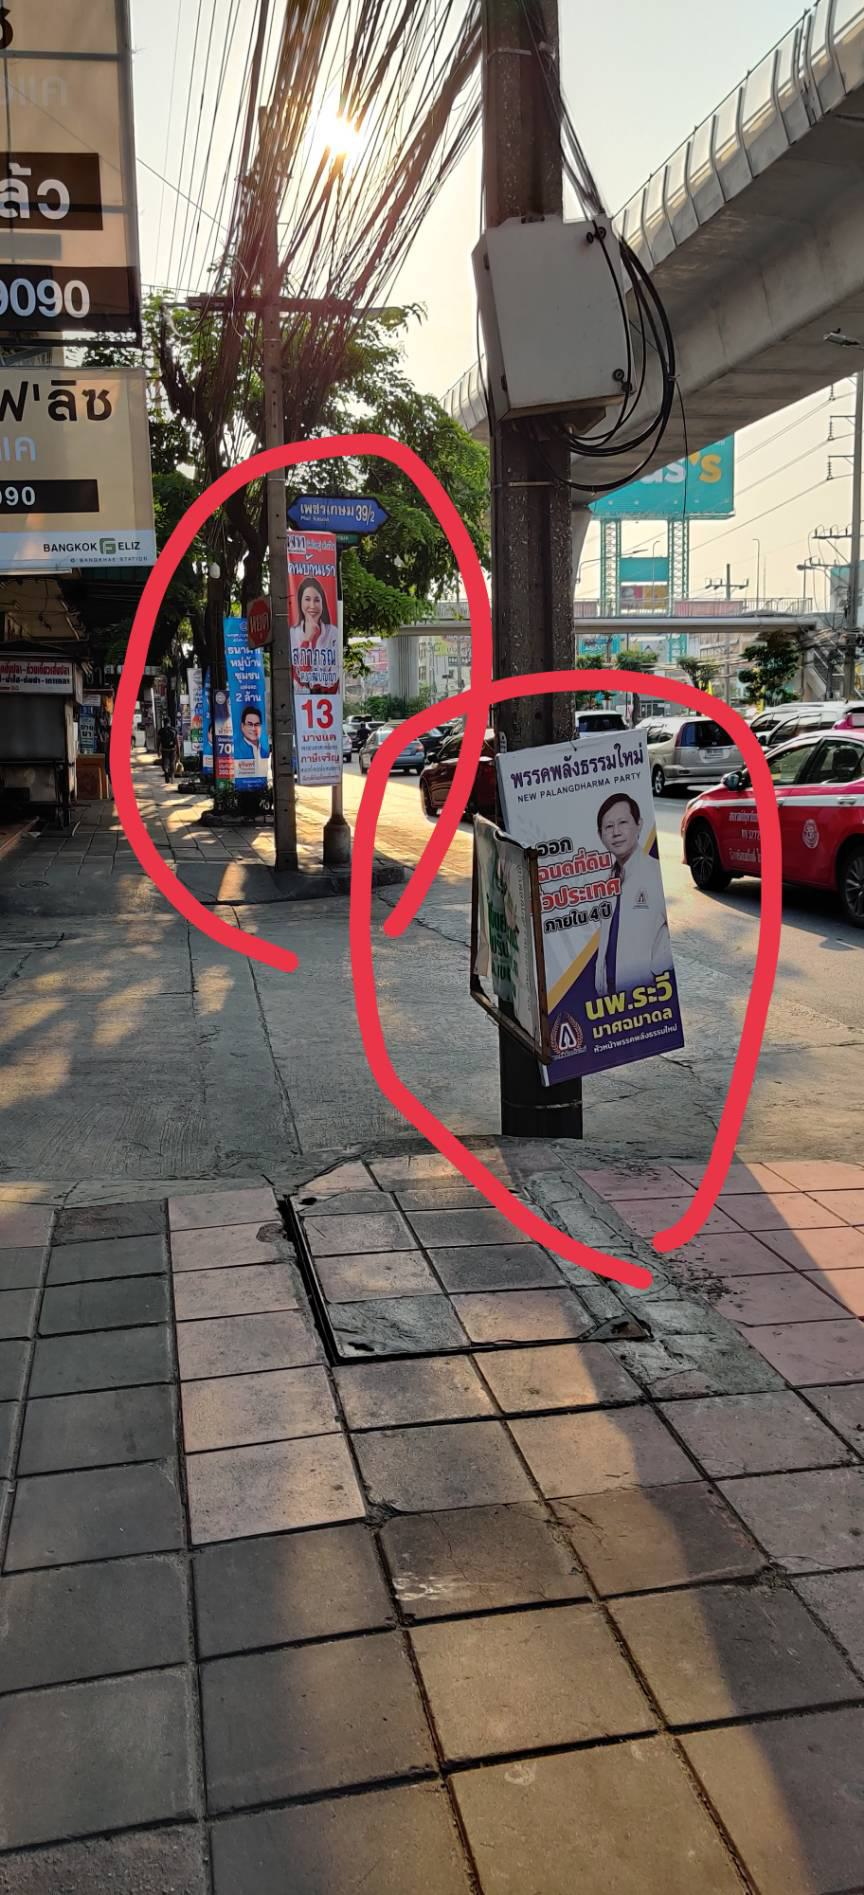Banner: (474, 712, 696, 1079), (278, 516, 358, 804)
